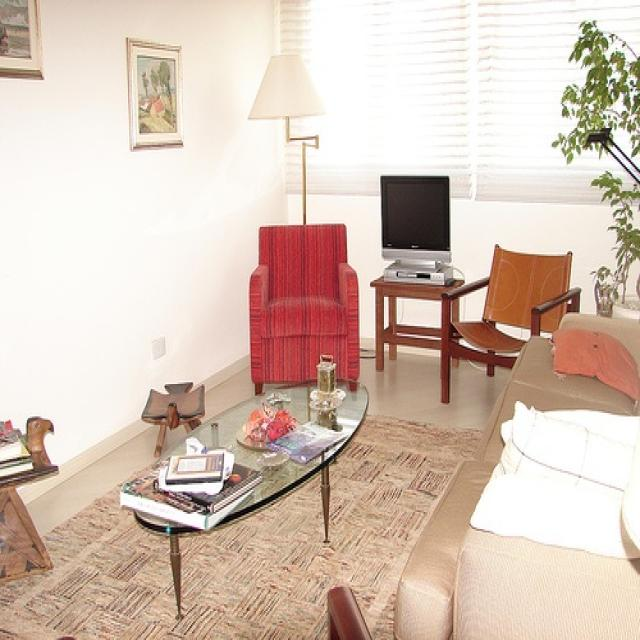chair: (439, 242, 580, 404), (250, 222, 362, 396)
pottedplant: (552, 19, 638, 295)
sofa: (393, 312, 639, 638)
tvmonitor: (379, 174, 450, 261)
